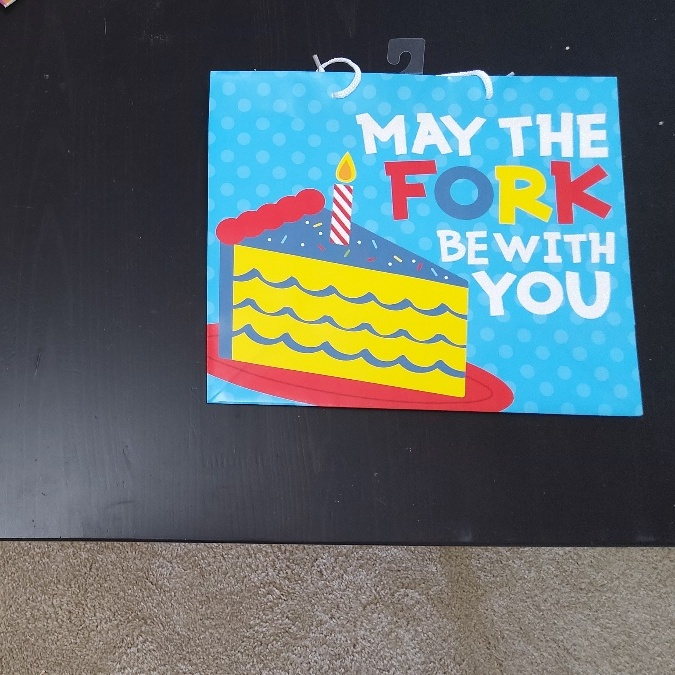paper_bag: (211, 71, 635, 407)
